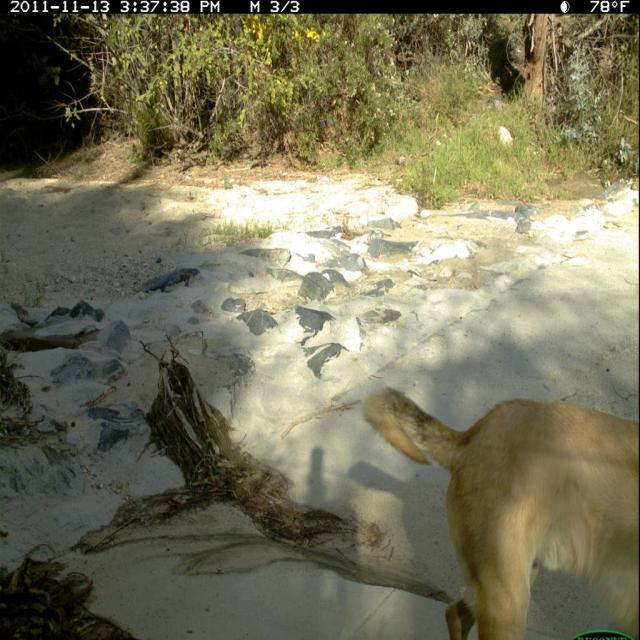dog: (366, 362, 634, 640)
